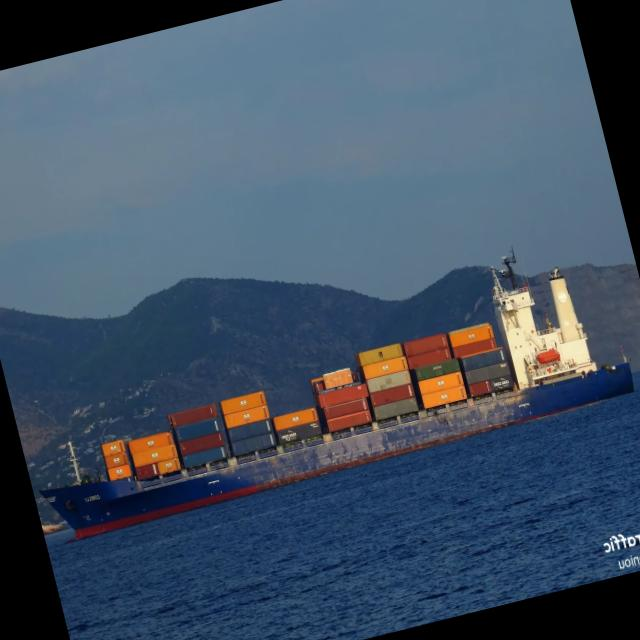Cargo: (41, 257, 633, 538)
